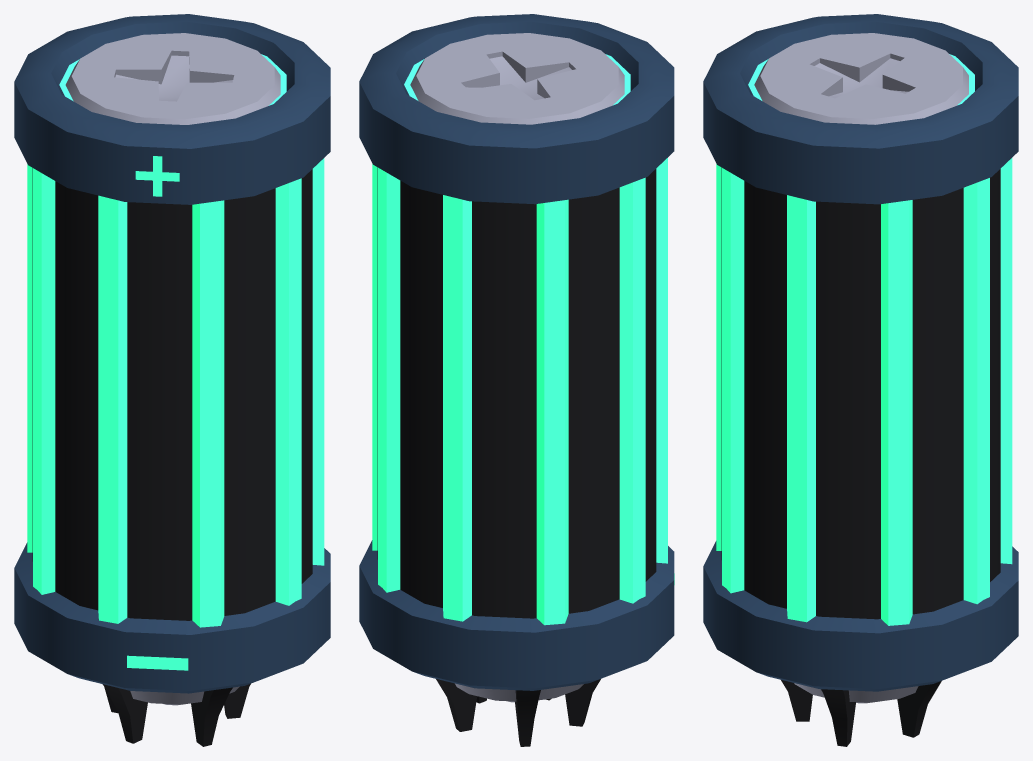
The model's file is Misc_Battery_Emit.fbx.
The picture shows the model from 3 angles, left to right: view 1: azimuth 30°, elevation 25°; view 2: azimuth 150°, elevation 25°; view 3: azimuth 270°, elevation 25°; orthographic projection.
Parts seen in each view (by area): view 1: Misc_Battery_Emit.001; view 2: Misc_Battery_Emit.001; view 3: Misc_Battery_Emit.001.
Part boxes in pixels (box(x1,y1,x2,y2)): Misc_Battery_Emit.001: box(14, 14, 330, 746); Misc_Battery_Emit.001: box(359, 14, 674, 746); Misc_Battery_Emit.001: box(703, 14, 1018, 746).
Size of the model in its own units: 0.0623 by 0.1402 by 0.062.
